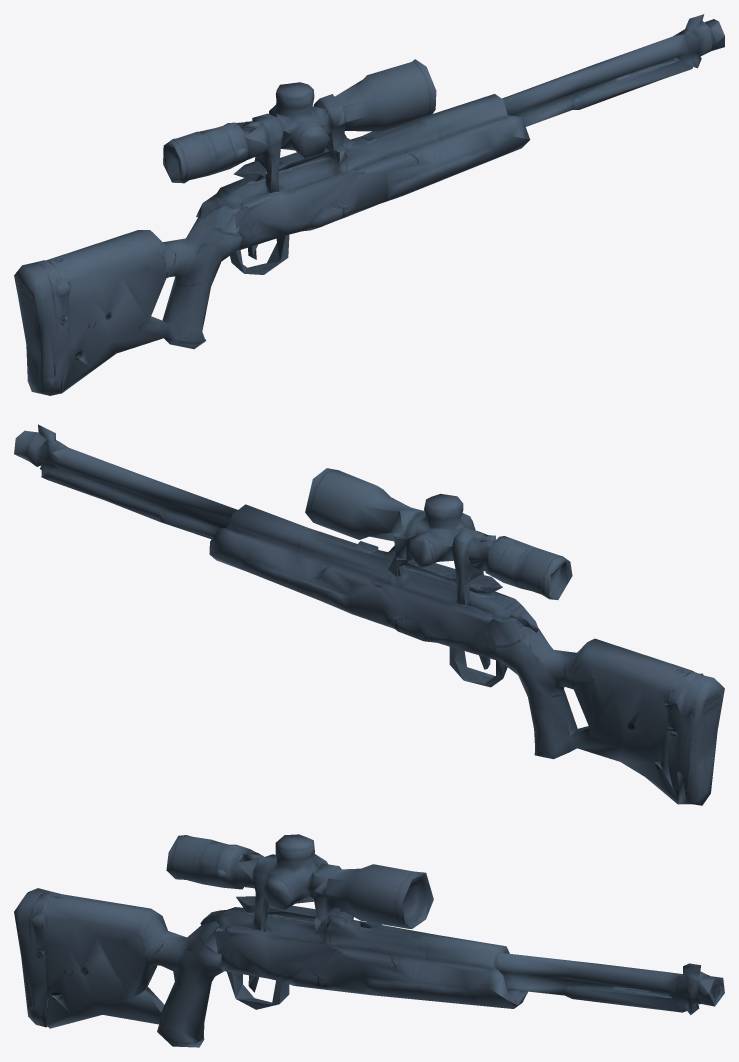
Rendered from lightning-ledger.glb.
3 renders of one model, top to bottom at view 1: azimuth 30°, elevation 25°; view 2: azimuth 150°, elevation 25°; view 3: azimuth 330°, elevation 25°, orthographic.
Parts seen in each view (by area): view 1: HMH Weapon | lightning-ledger; view 2: HMH Weapon | lightning-ledger; view 3: HMH Weapon | lightning-ledger.
Boxes of the visible parts, bbox=[...] form: HMH Weapon | lightning-ledger: bbox=[14, 14, 724, 395]; HMH Weapon | lightning-ledger: bbox=[14, 424, 724, 805]; HMH Weapon | lightning-ledger: bbox=[14, 834, 724, 1047].
Bounding box in the file's own units: 1.1 × 0.3662 × 0.1054.
Materials: 1 (1 with a texture image).
